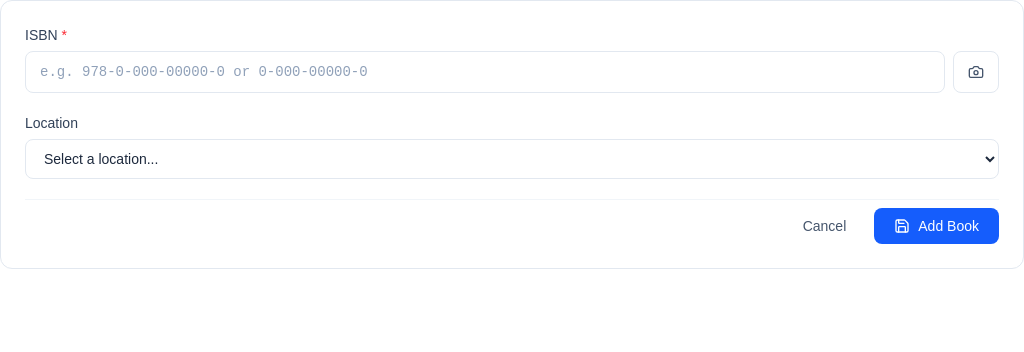
Test: BookFromISBNForm — server action error › displays error message returned by server action
The image size is (1024, 352).
Type "9780135957059" into the field with placeholder "e.g. 978-0-000-00000-0 or 0-000-00000-0" at {"x": 485, "y": 72}, box [25,51,945,93]
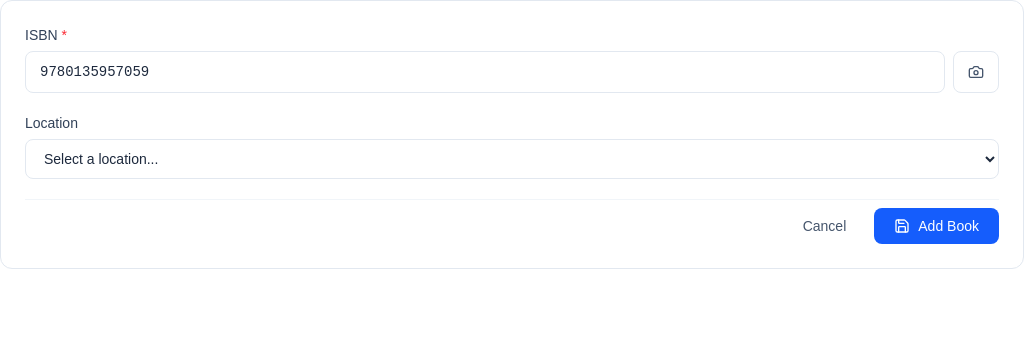
Click the button "Add Book" at {"x": 937, "y": 226}, box [874,208,999,244]
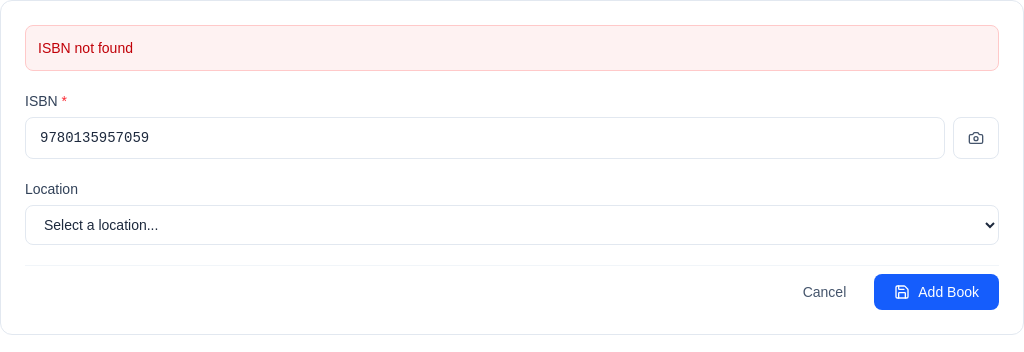
Check: the text "ISBN not found" is shown, box [25,25,999,71]
